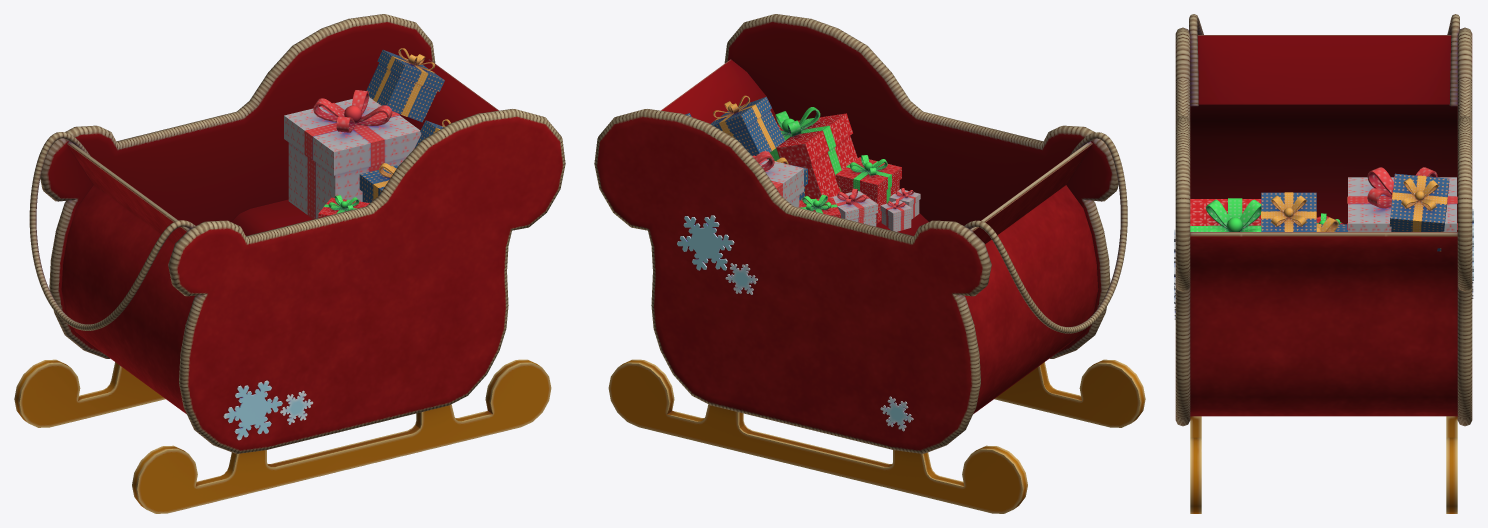
File: Trineo_regalos.fbx
The picture shows the model from 3 angles, left to right: view 1: azimuth 30°, elevation 25°; view 2: azimuth 150°, elevation 25°; view 3: azimuth 270°, elevation 25°; orthographic projection. The views are drawn at different scales.
Parts seen in each view (by area): view 1: Trineo; view 2: Trineo; view 3: Trineo.
Part boxes in pixels (box(x1,y1,x2,y2)): Trineo: box(14, 14, 565, 513); Trineo: box(594, 14, 1145, 513); Trineo: box(1174, 14, 1473, 513).
Size of the model in its own units: 224 by 162 by 123.
